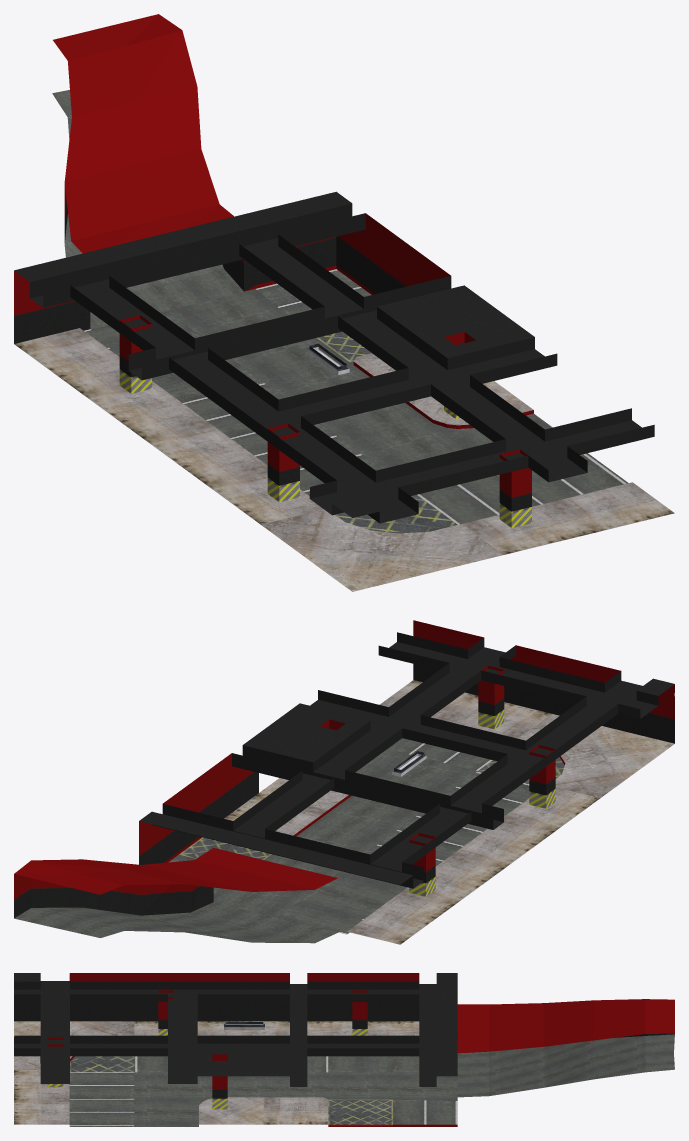
File: carimp2_lan.obj
3 renders of one model, top to bottom at view 1: azimuth 30°, elevation 25°; view 2: azimuth 150°, elevation 25°; view 3: azimuth 270°, elevation 25°, orthographic. The views are drawn at different scales.
Parts seen in each view (by area): view 1: carimp2_LAn; view 2: carimp2_LAn; view 3: carimp2_LAn.
Boxes of the visible parts, x1=… form: carimp2_LAn: x1=14, y1=14, x2=674, y2=591; carimp2_LAn: x1=14, y1=620, x2=674, y2=944; carimp2_LAn: x1=14, y1=973, x2=674, y2=1126.
Size of the model in its own units: 31.55 by 12.59 by 84.05.
